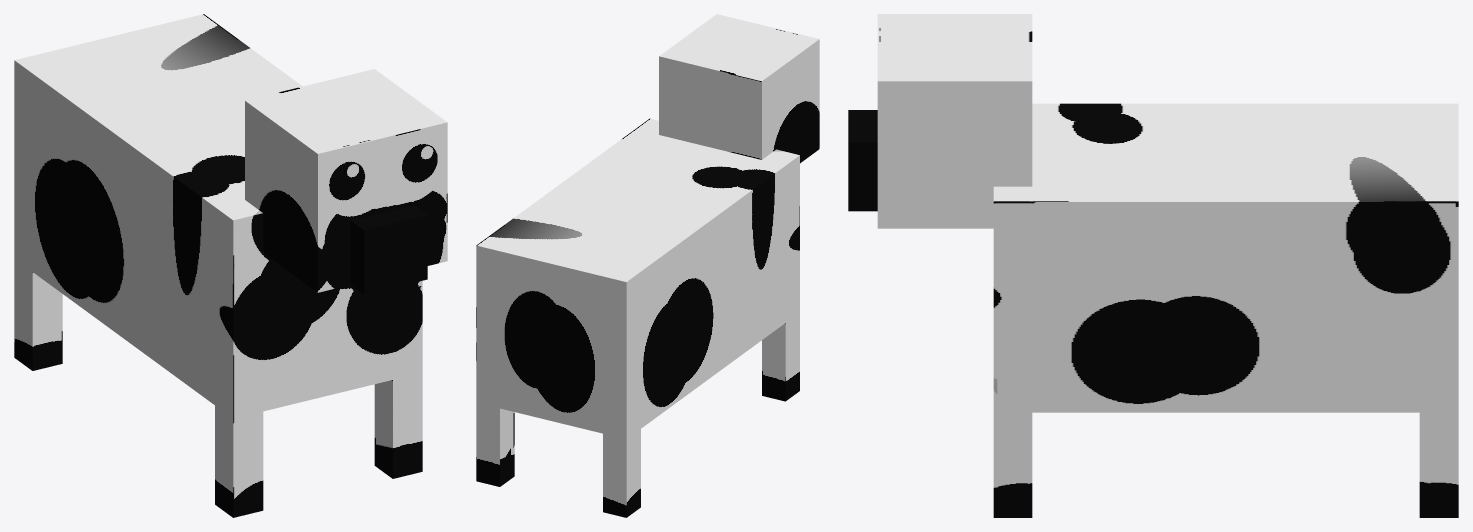
Rendered from Cow.fbx.
The picture shows the model from 3 angles, left to right: view 1: azimuth 30°, elevation 25°; view 2: azimuth 150°, elevation 25°; view 3: azimuth 270°, elevation 25°; orthographic projection. The views are drawn at different scales.
Parts seen in each view (by area): view 1: Cube; view 2: Cube; view 3: Cube.
Part boxes in pixels (x1=…): Cube: x1=14, y1=14, x2=447, y2=517; Cube: x1=476, y1=14, x2=819, y2=517; Cube: x1=848, y1=14, x2=1458, y2=517.
Size of the model in its own units: 200 by 400 by 525.
1 material, 1 textured.
